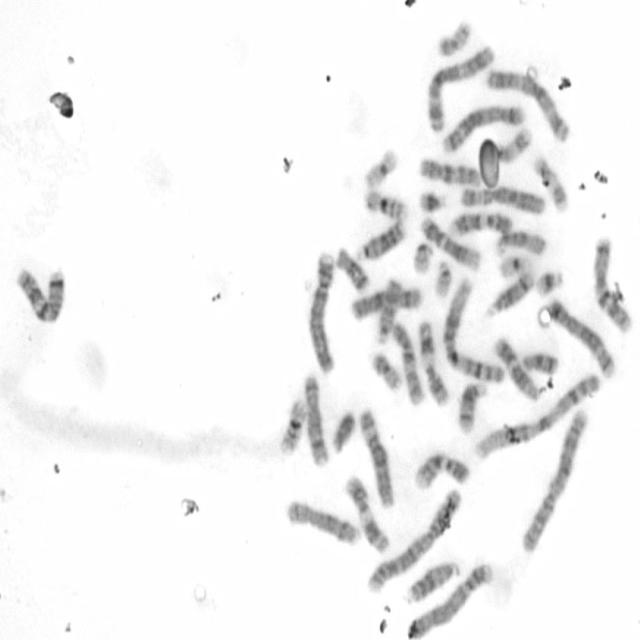A1: (467, 374, 603, 456), (441, 277, 507, 384)
A2: (366, 492, 464, 596), (519, 408, 589, 552)
A3: (419, 42, 499, 134), (485, 67, 571, 139)
B4: (404, 557, 496, 638), (307, 249, 338, 375)
B5: (546, 296, 613, 376), (442, 104, 524, 156)
C10: (386, 320, 424, 405), (417, 154, 482, 188)
C11: (343, 475, 391, 551), (416, 318, 452, 402)
C12: (489, 336, 545, 400), (419, 216, 482, 268)
C6: (355, 405, 395, 508), (456, 182, 544, 218)
C7: (586, 232, 634, 339), (11, 262, 68, 326)
C8: (284, 498, 360, 545), (300, 375, 329, 469)
C9: (411, 450, 472, 491), (448, 209, 514, 238)
D13: (403, 556, 462, 604), (354, 219, 408, 263)
D14: (484, 269, 534, 318), (456, 377, 489, 436)
D15: (372, 280, 404, 344), (490, 227, 550, 259)
E16: (279, 396, 306, 456), (361, 187, 407, 220)
E17: (532, 152, 570, 215), (493, 124, 533, 165)
E18: (333, 246, 371, 293), (519, 350, 560, 375)
F19: (362, 150, 400, 190), (496, 252, 531, 280)
F20: (432, 18, 474, 59), (368, 349, 402, 391)
G21: (532, 267, 566, 298), (414, 187, 448, 216)
G22: (410, 236, 434, 277), (432, 256, 452, 301)
X: (350, 278, 422, 324)
Y: (328, 408, 357, 455)
